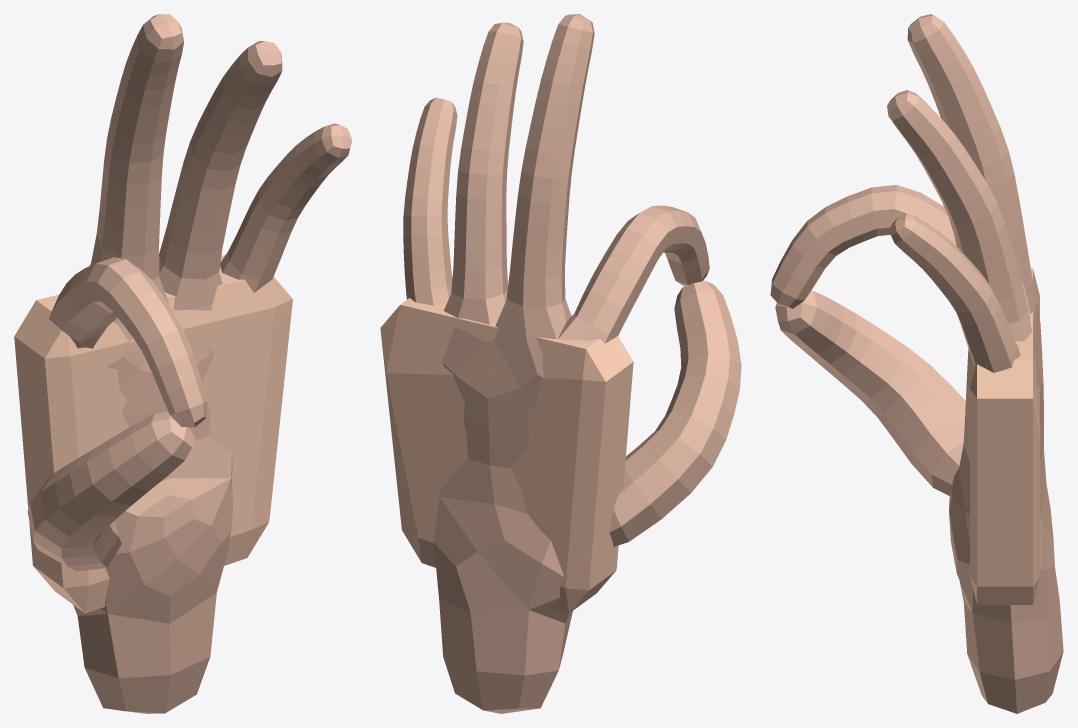
Rendered from Hand_Pinch_2.fbx.
3 views of the same model, side by side, from view 1: azimuth 30°, elevation 25°; view 2: azimuth 150°, elevation 25°; view 3: azimuth 270°, elevation 25° (orthographic). The views are drawn at different scales.
Parts seen in each view (by area): view 1: Hand_Pinch, Cube; view 2: Hand_Pinch, Cube; view 3: Hand_Pinch, Cube.
Boxes of the visible parts, x1,y1,x2,y2 form: Hand_Pinch: [27, 14, 351, 713]; Cube: [14, 255, 292, 613]; Hand_Pinch: [403, 14, 741, 713]; Cube: [380, 298, 633, 613]; Hand_Pinch: [770, 14, 1063, 713]; Cube: [970, 268, 1039, 604].
Bounding box in the file's own units: 10.23 × 22.89 × 8.96.
